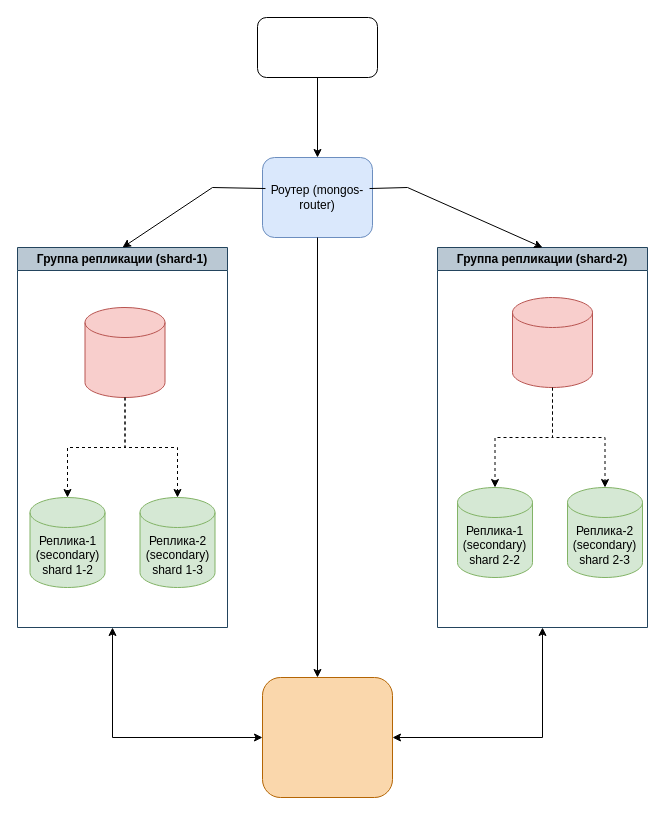
The diagram is 665 pixels wide and 815 high, and some of its shapes have lost their labels. Each missing label, with the centre of its shape:
Конфигурационный сервер(config-srv): point 327,737
Первичный сервер (primary) shard 1-1: point 124,352
Первичный сервер (primary) shard 2-1: point 552,342
Приложение (pymongo-api): point 317,47
